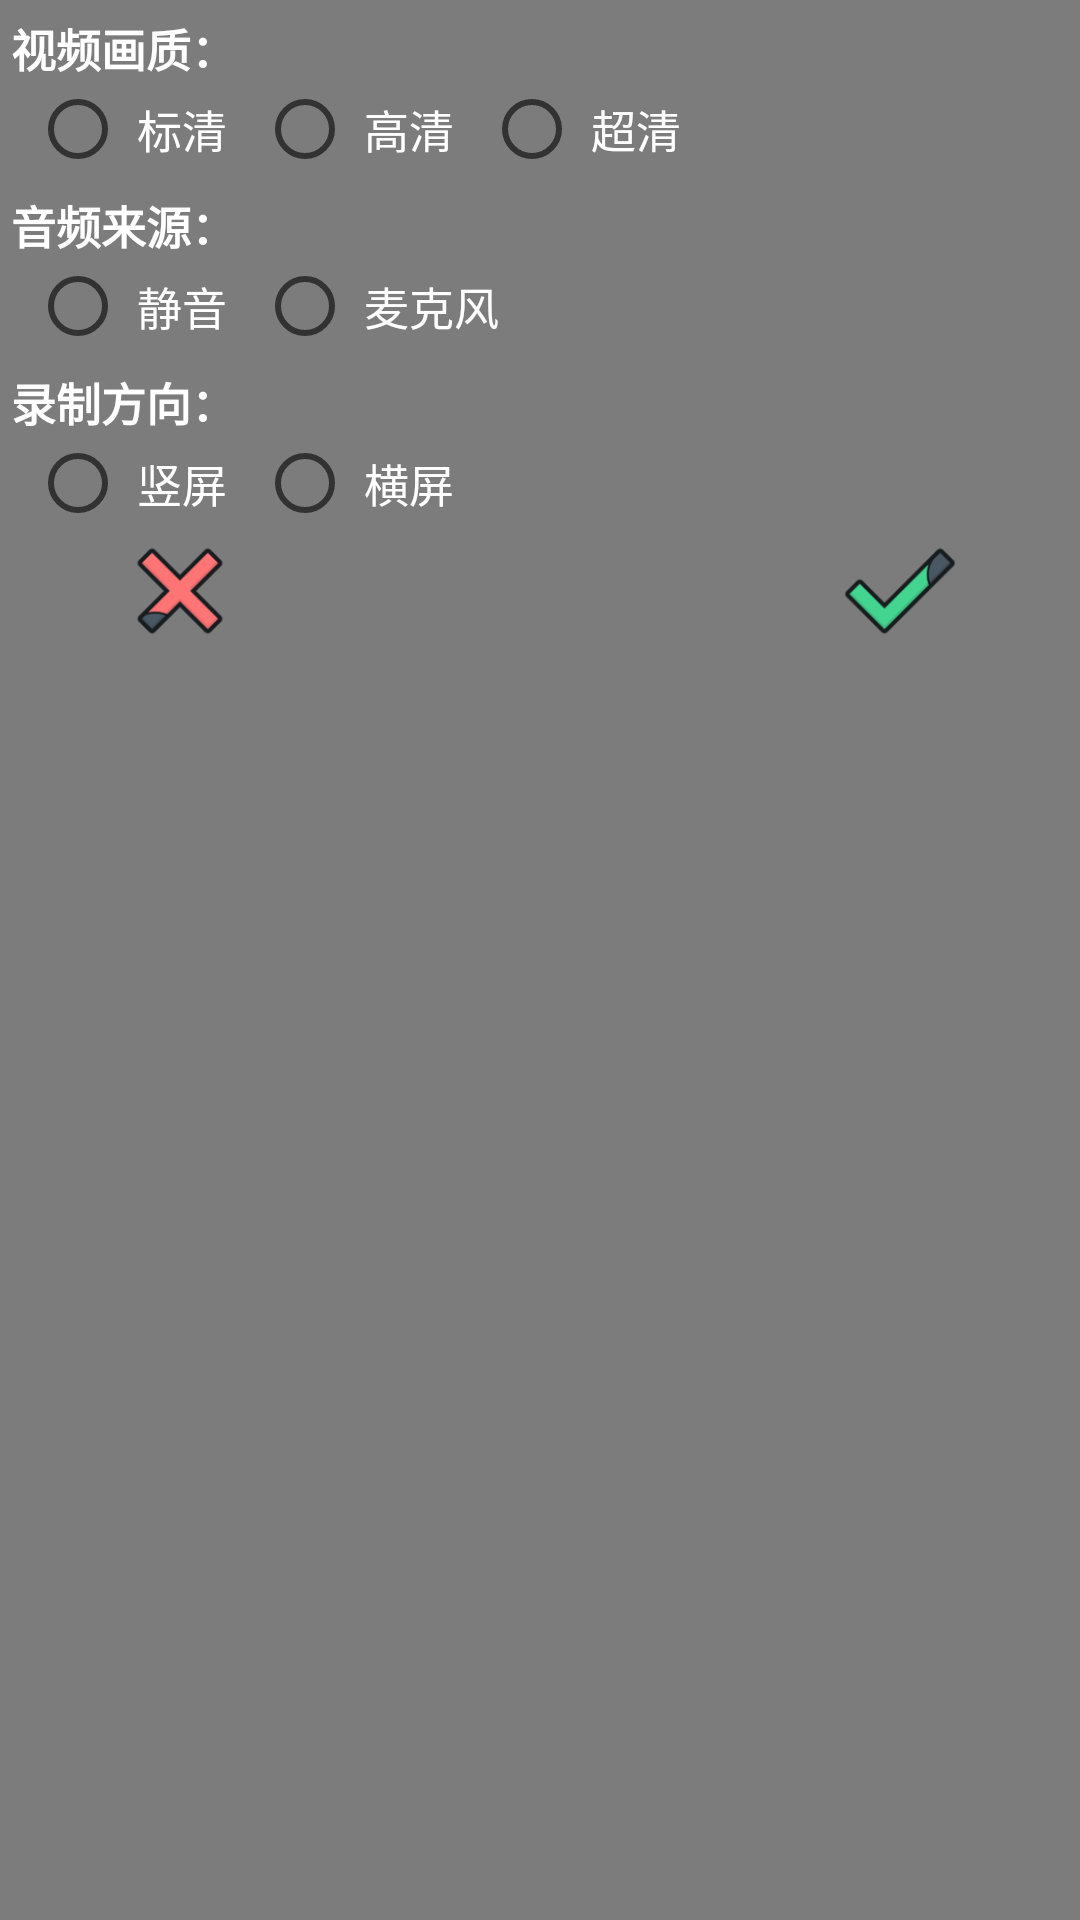

Icon bounding boxes for this 1080x1920 phone screenshot, format (x1, y1, x2, y2):
yes: (845, 548, 955, 634)
